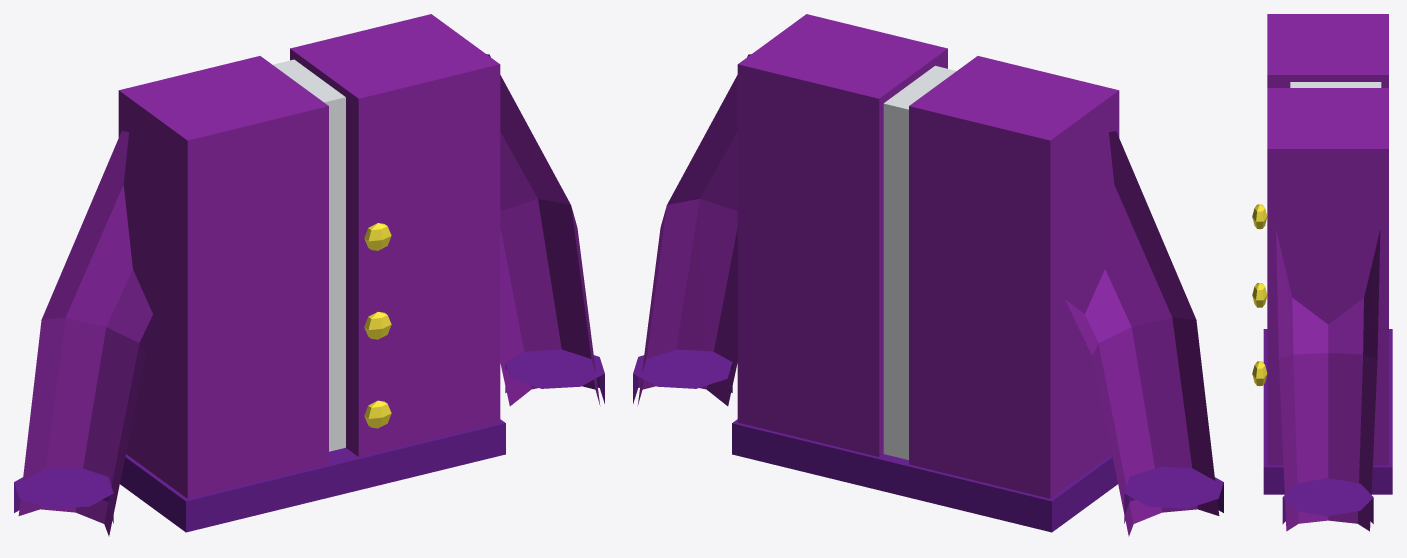
File: kofta.glb
The picture shows the model from 3 angles, left to right: view 1: azimuth 30°, elevation 25°; view 2: azimuth 150°, elevation 25°; view 3: azimuth 270°, elevation 25°; orthographic projection. The views are drawn at different scales.
Visible parts, largest first — view 1: kofta; view 2: kofta; view 3: kofta.
Part boxes in pixels (box(x1,y1,x2,y2)): kofta: box(14, 14, 604, 536); kofta: box(633, 14, 1223, 536); kofta: box(1252, 14, 1392, 531).
Size of the model in its own units: 0.78 by 0.5093 by 0.185.
